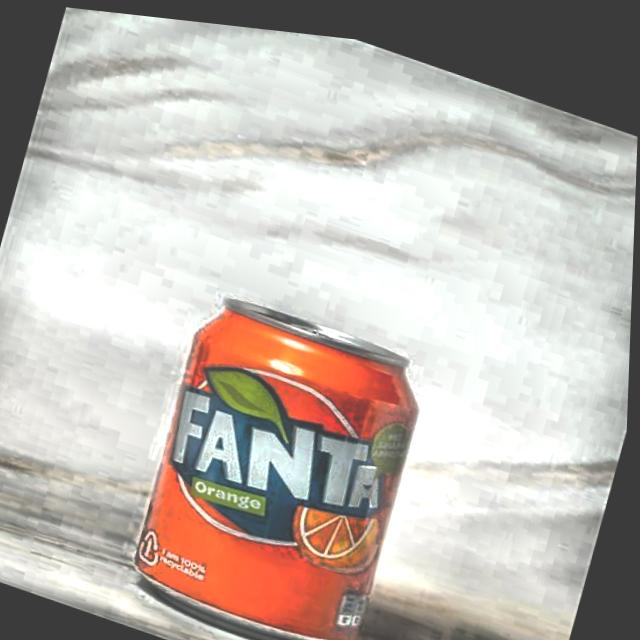Cans: (110, 256, 451, 640)
